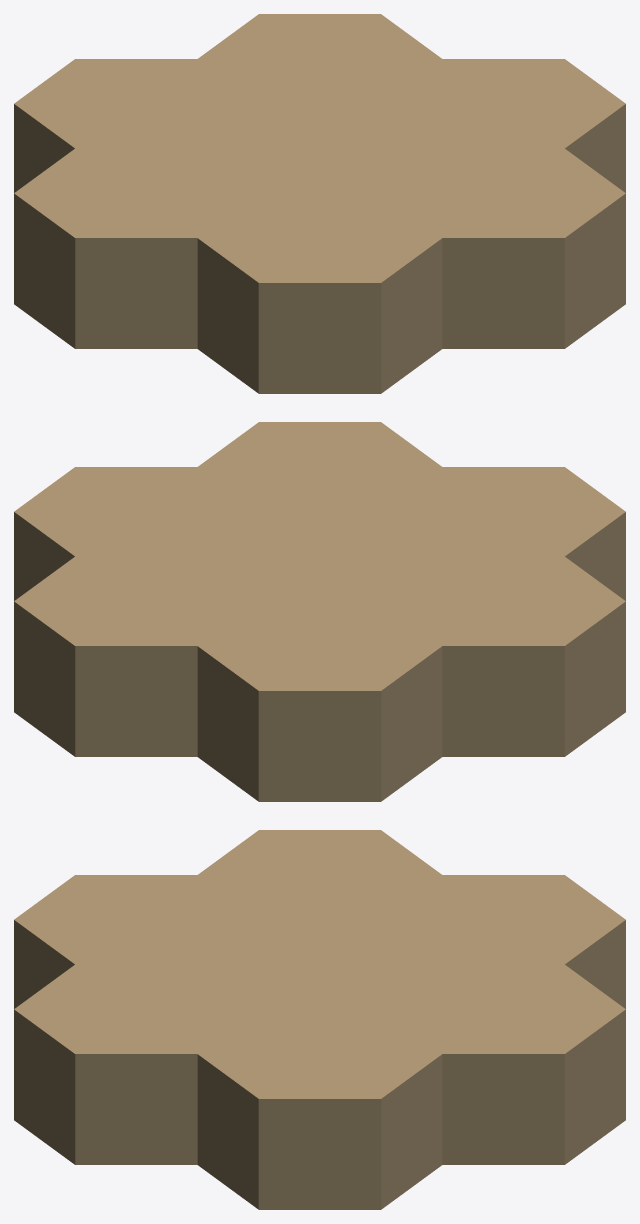
Rendered from CityPlot7.fbx.
3 renders of one model, top to bottom at view 1: azimuth 30°, elevation 25°; view 2: azimuth 150°, elevation 25°; view 3: azimuth 270°, elevation 25°, orthographic.
Visible parts, largest first — view 1: CityPlot7; view 2: CityPlot7; view 3: CityPlot7.
Boxes of the visible parts, x1,y1,x2,y2 form: CityPlot7: [14, 14, 625, 393]; CityPlot7: [14, 422, 625, 801]; CityPlot7: [14, 830, 625, 1209].
Size of the model in its own units: 5.2 by 1 by 5.
